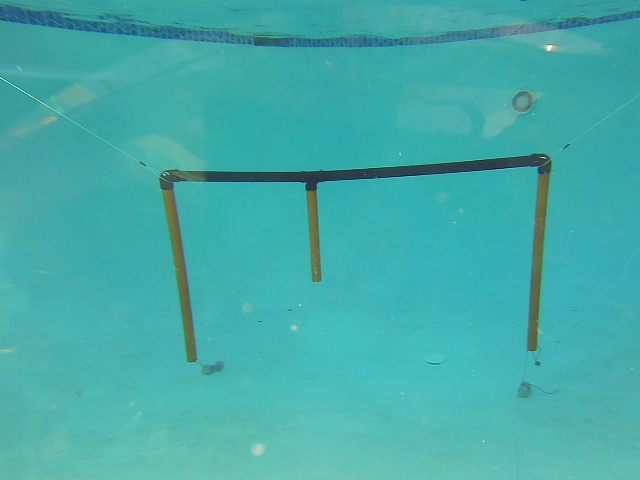Gate: (161, 185, 202, 366), (522, 169, 552, 355), (303, 184, 326, 285)
